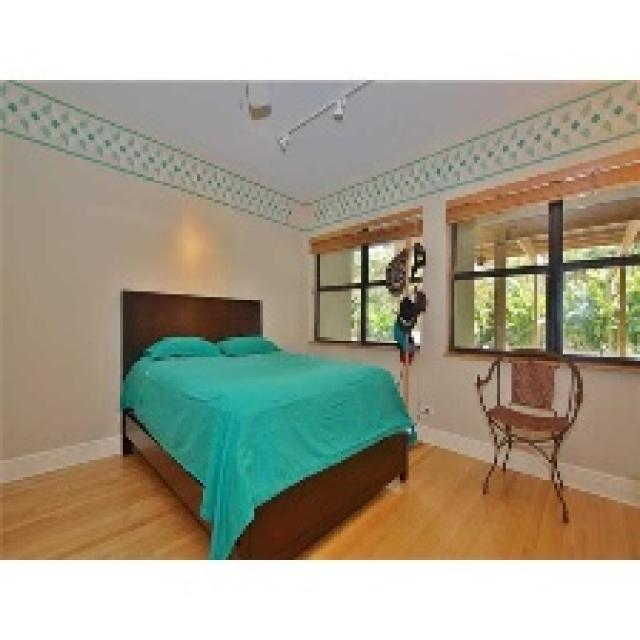Bed: (117, 289, 417, 557)
